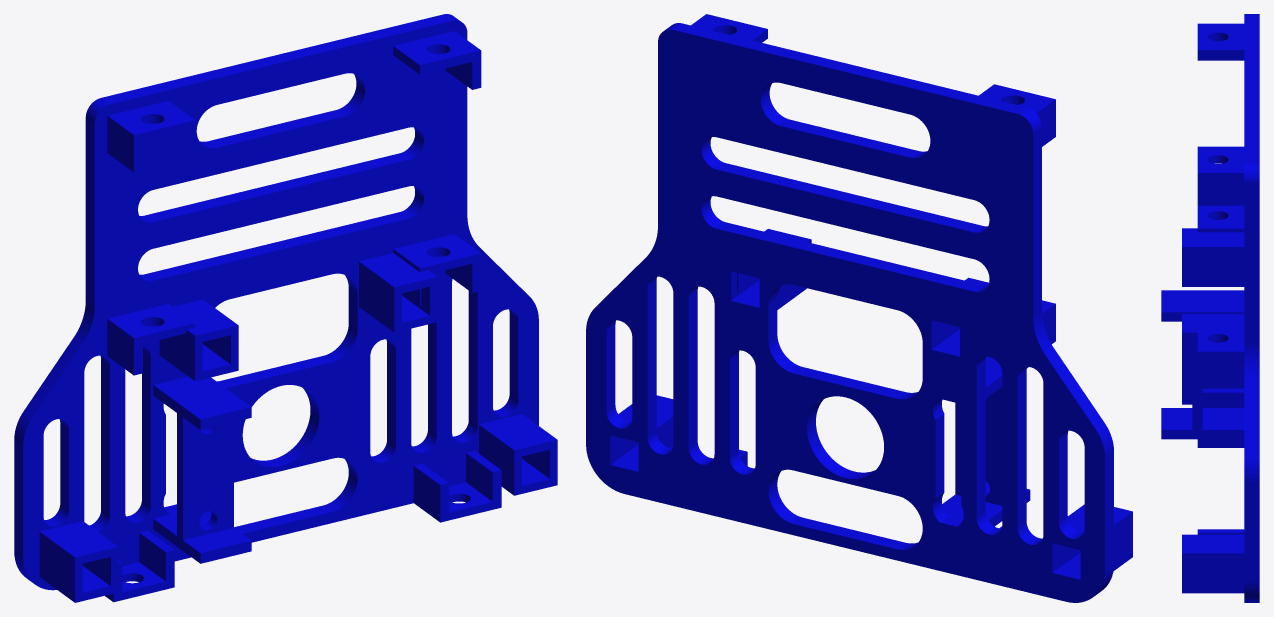
File: Der.dae
3 views of the same model, side by side, from view 1: azimuth 30°, elevation 25°; view 2: azimuth 150°, elevation 25°; view 3: azimuth 270°, elevation 25° (orthographic). The views are drawn at different scales.
Visible parts, largest first — view 1: tmp_export_Der; view 2: tmp_export_Der; view 3: tmp_export_Der.
Boxes of the visible parts, <box> form: tmp_export_Der: <box>14,14,557,602</box>; tmp_export_Der: <box>586,14,1132,602</box>; tmp_export_Der: <box>1161,14,1259,602</box>.
Bounding box in the file's own units: 0.101 × 0.019 × 0.0885.
